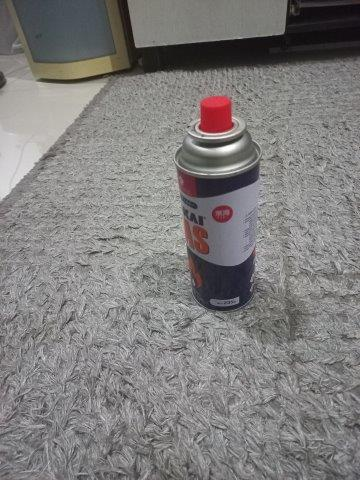kaleng: (174, 96, 263, 314)
